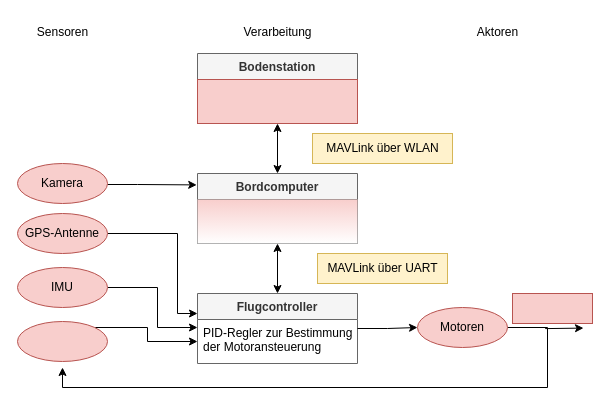
This 610x413 diagram has some shape labels left out. The centre of each missing label's shape, as x and y in pixels:
Barometer: the point at 62,341
Bewegung: the point at 552,308
Vorgabe Zielposition oder manuelle Steuerung: the point at 277,101
Weiterleitung / Verarbeitung von Flugdaten: the point at 277,221
